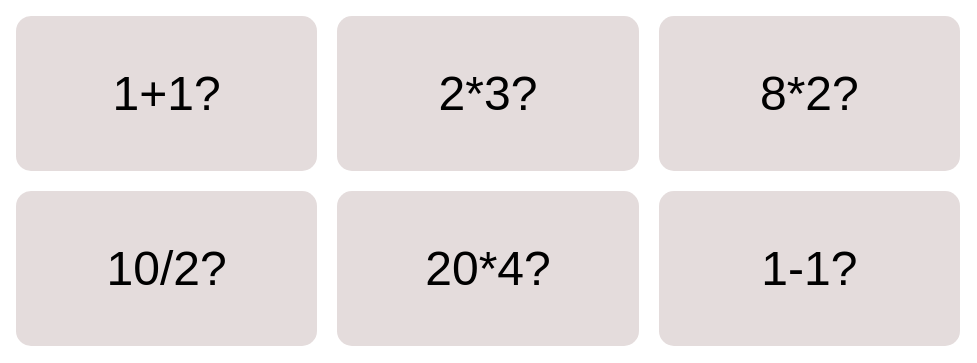
App Component › toggles answer on multiple clicks
Click the text "1+1?". click: (167, 94)
box: [113,66,221,121]
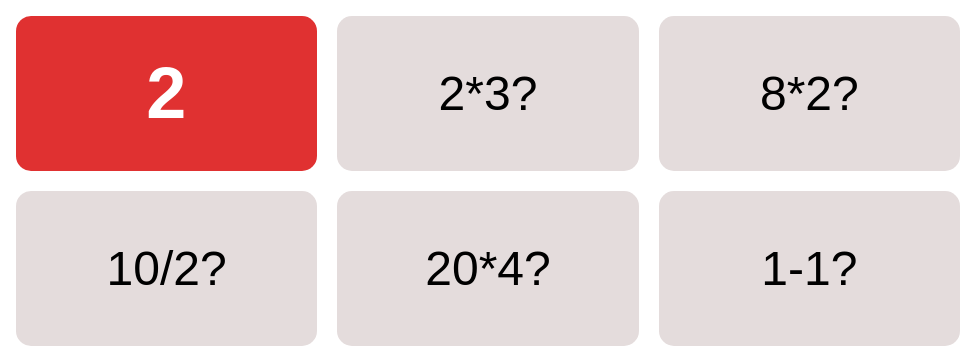
Now the text "2" is shown
Click the text "2". click: (167, 94)
box: [147,52,187,135]
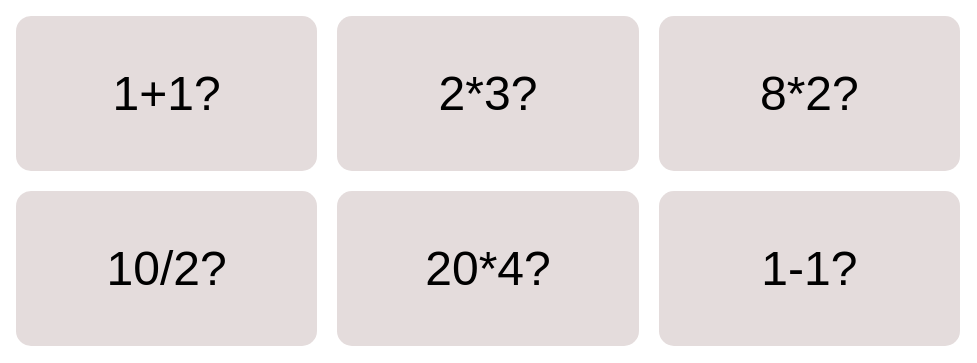
Now the text "1+1?" is shown, box [113,66,221,121]
